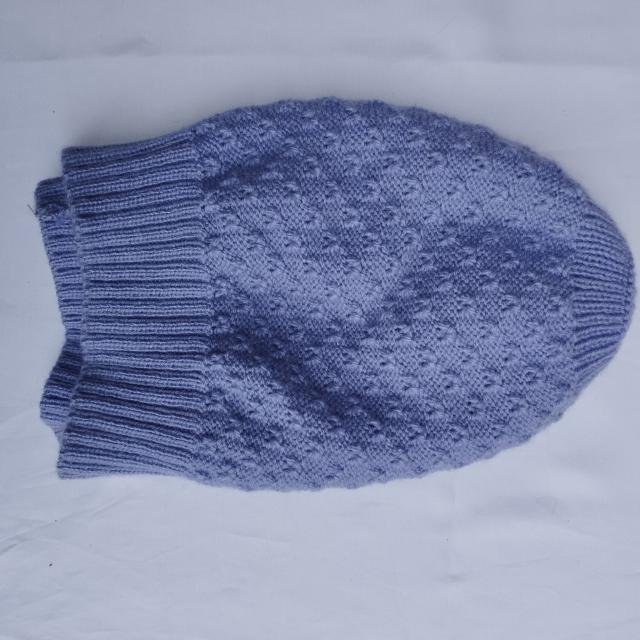Gorro: (30, 95, 636, 492)
